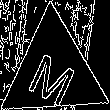M_NE: (25, 38, 82, 104)
